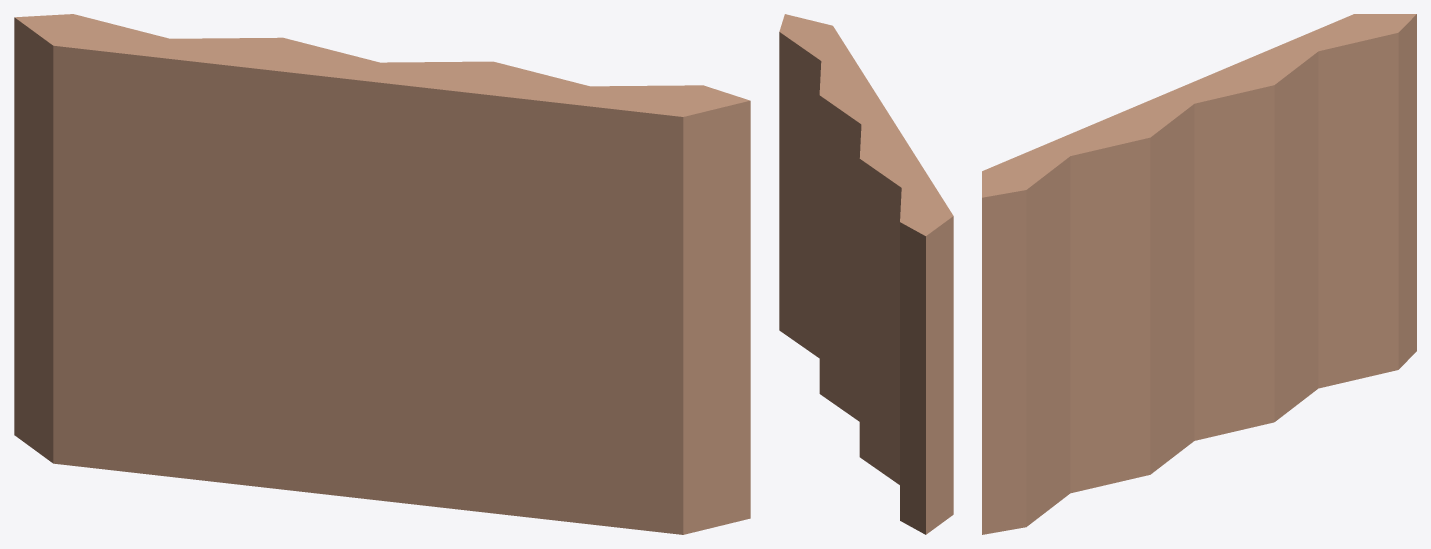
The model's file is cliff_diagonal_rock.glb.
3 views of the same model, side by side, from view 1: azimuth 30°, elevation 25°; view 2: azimuth 150°, elevation 25°; view 3: azimuth 270°, elevation 25° (orthographic). The views are drawn at different scales.
Visible parts, largest first — view 1: cliff_diagonal_rock; view 2: cliff_diagonal_rock; view 3: cliff_diagonal_rock.
Boxes of the visible parts, box(x1,y1,x2,y2) form: cliff_diagonal_rock: box(14, 14, 750, 534); cliff_diagonal_rock: box(779, 14, 953, 534); cliff_diagonal_rock: box(982, 14, 1416, 534).
Bounding box in the file's own units: 1.17 × 1 × 1.17.
